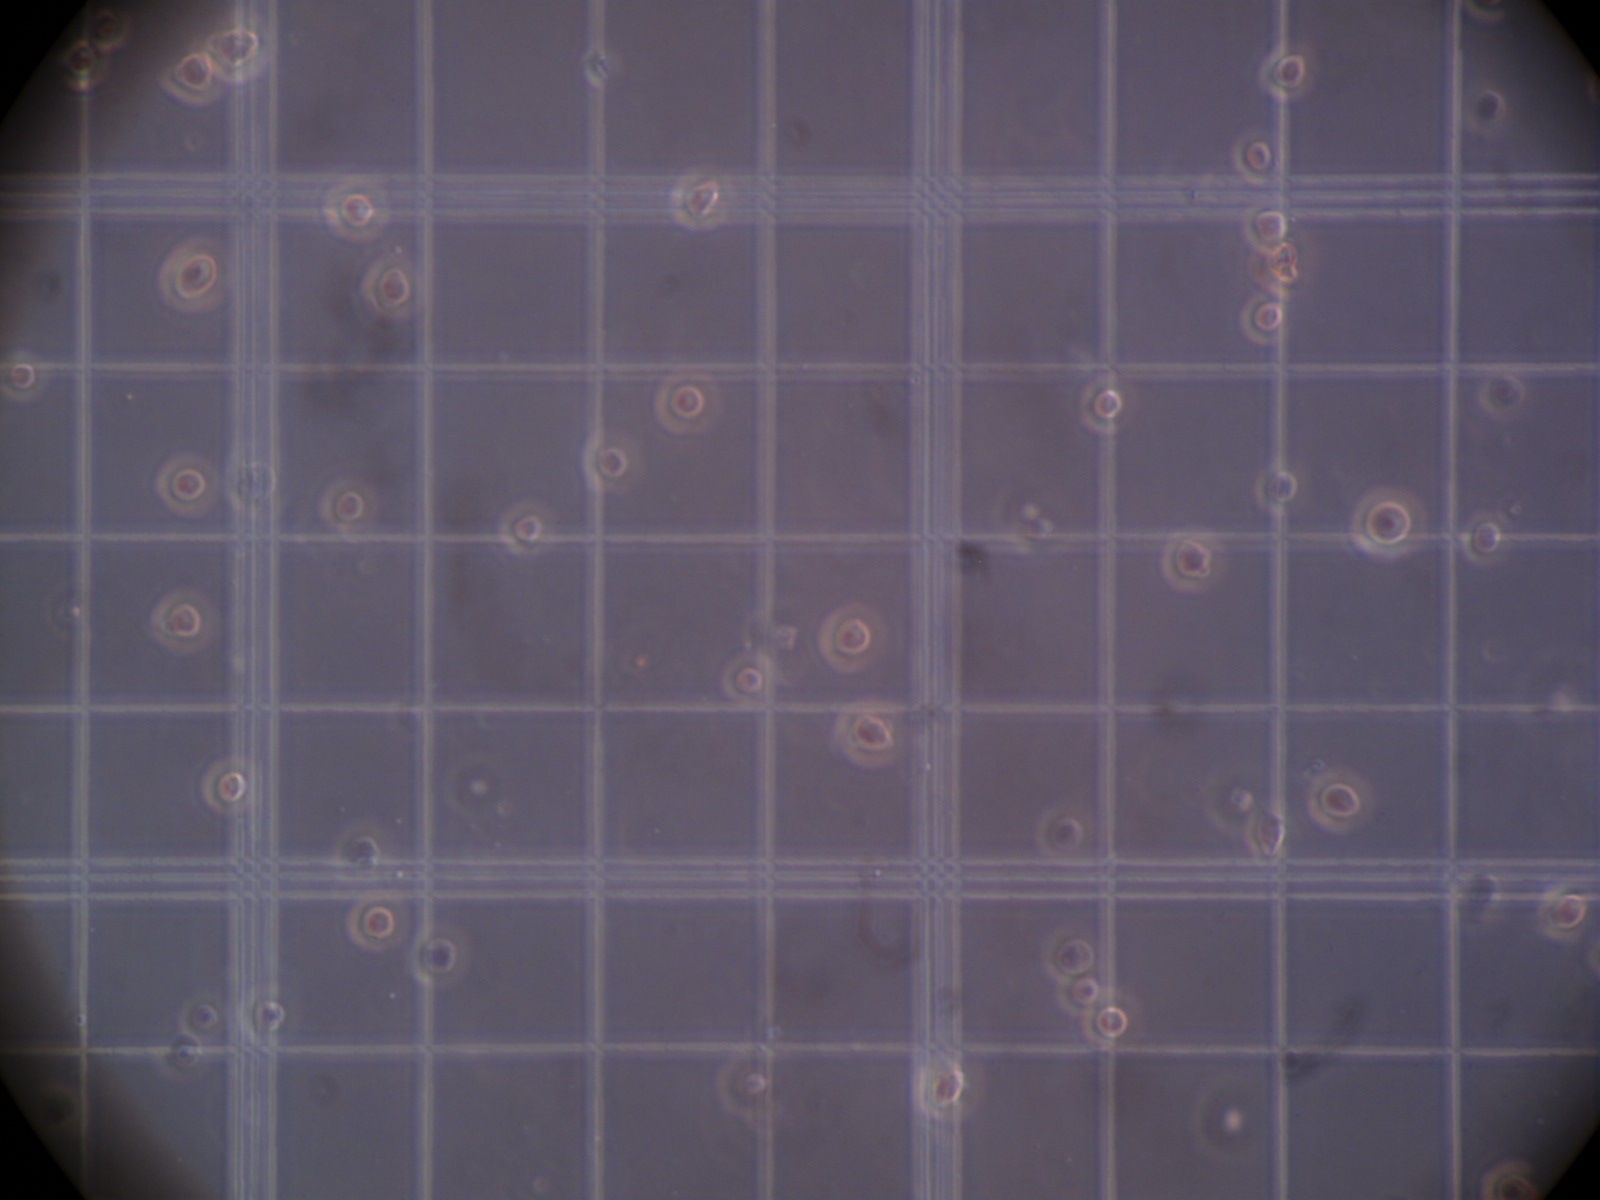hemo: (1351, 482, 1425, 566), (159, 234, 233, 316), (820, 603, 888, 673), (655, 366, 721, 435), (323, 175, 387, 243), (835, 705, 901, 770), (1308, 768, 1372, 834), (207, 20, 276, 82), (149, 586, 212, 653), (669, 164, 732, 229), (714, 1053, 776, 1119), (362, 252, 422, 320), (155, 453, 218, 516), (1081, 987, 1141, 1053), (234, 986, 302, 1041), (915, 1066, 984, 1121), (581, 430, 641, 492), (346, 891, 409, 950), (409, 921, 467, 986), (1163, 531, 1222, 592), (1247, 239, 1305, 303), (202, 758, 260, 817), (1534, 884, 1589, 945), (321, 476, 378, 534), (1259, 42, 1314, 100), (163, 54, 224, 105), (1461, 511, 1513, 568), (1233, 127, 1283, 187), (719, 653, 774, 705), (501, 499, 552, 555), (1044, 926, 1095, 981), (338, 824, 388, 879), (1252, 455, 1296, 516), (58, 38, 108, 89), (1039, 804, 1089, 857), (83, 3, 136, 50), (1243, 809, 1288, 865), (1477, 371, 1524, 421), (1078, 382, 1124, 435), (1240, 205, 1288, 255), (1, 349, 45, 401), (1238, 296, 1284, 345), (1482, 1160, 1536, 1200), (1054, 972, 1101, 1016), (181, 995, 224, 1037), (1468, 88, 1507, 134)
